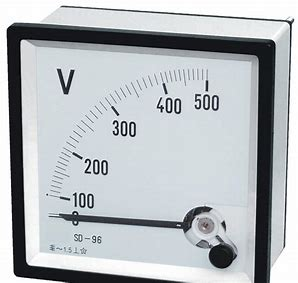pointer: (20, 38, 258, 283)
